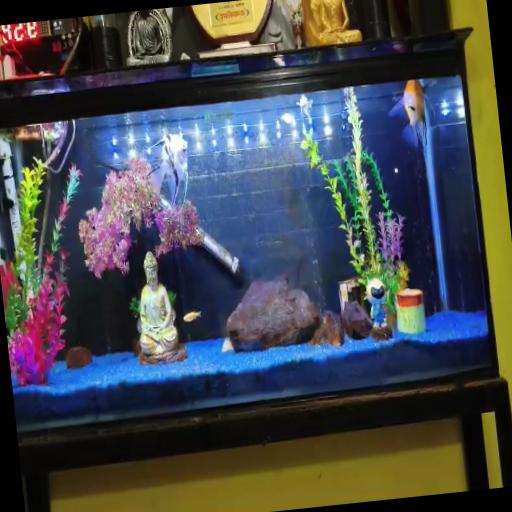Fish: (389, 80, 426, 156), (150, 134, 187, 208), (296, 94, 312, 122), (182, 312, 200, 322), (280, 113, 294, 125)
